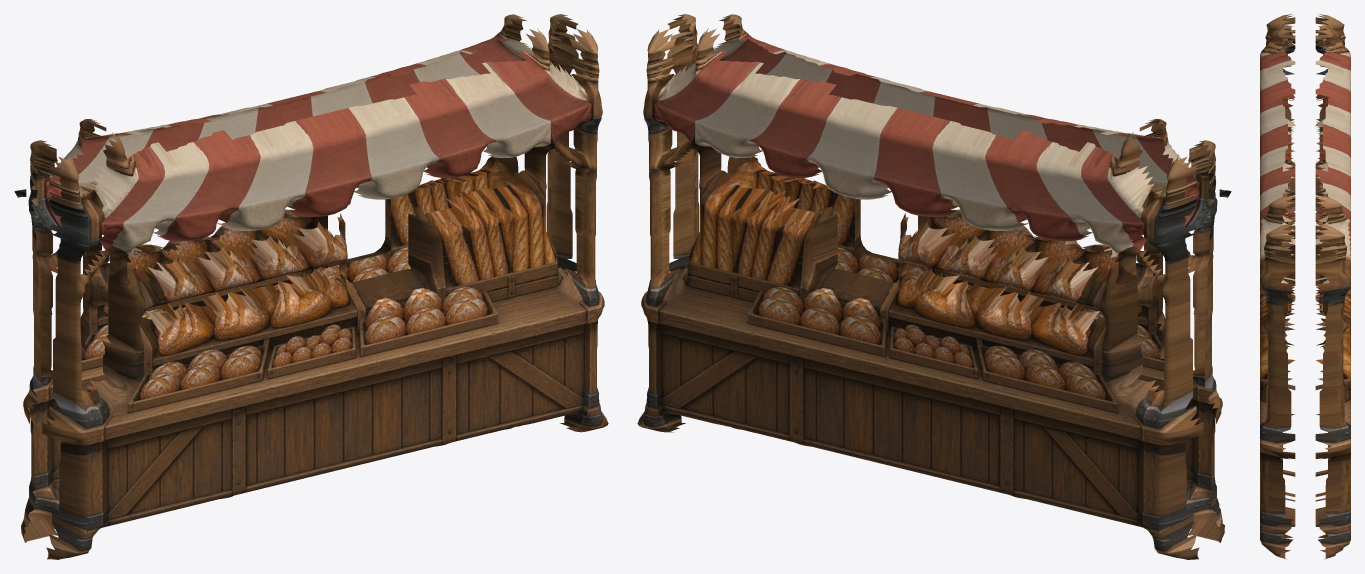
File: v4-market-street-scatter-bread-stall.glb
The picture shows the model from 3 angles, left to right: view 1: azimuth 30°, elevation 25°; view 2: azimuth 150°, elevation 25°; view 3: azimuth 270°, elevation 25°; orthographic projection. The views are drawn at different scales.
Visible parts, largest first — view 1: v4-market-street-scatter-bread-stall; view 2: v4-market-street-scatter-bread-stall; view 3: v4-market-street-scatter-bread-stall.
Part boxes in pixels (bbox=[...]): v4-market-street-scatter-bread-stall: bbox=[14, 14, 608, 559]; v4-market-street-scatter-bread-stall: bbox=[637, 14, 1231, 559]; v4-market-street-scatter-bread-stall: bbox=[1260, 14, 1350, 559].
Size of the model in its own units: 1.43 by 0.9817 by 0.24.
1 material, 1 textured.
